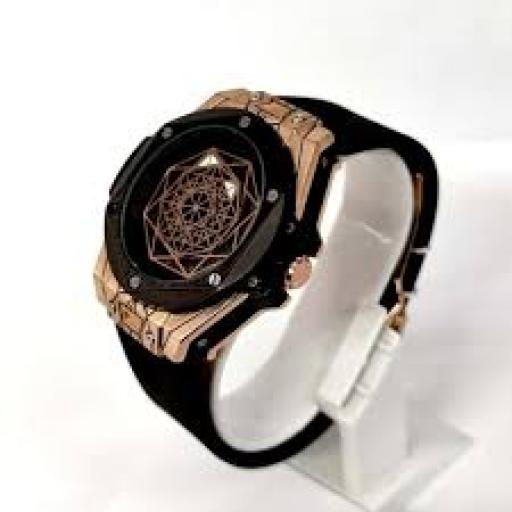KolSaati: (78, 68, 456, 463)
